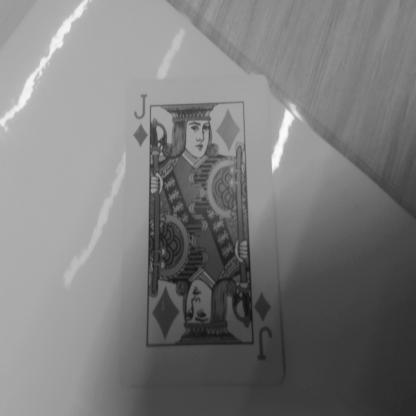JD: (244, 258, 278, 369), (124, 75, 157, 160)
